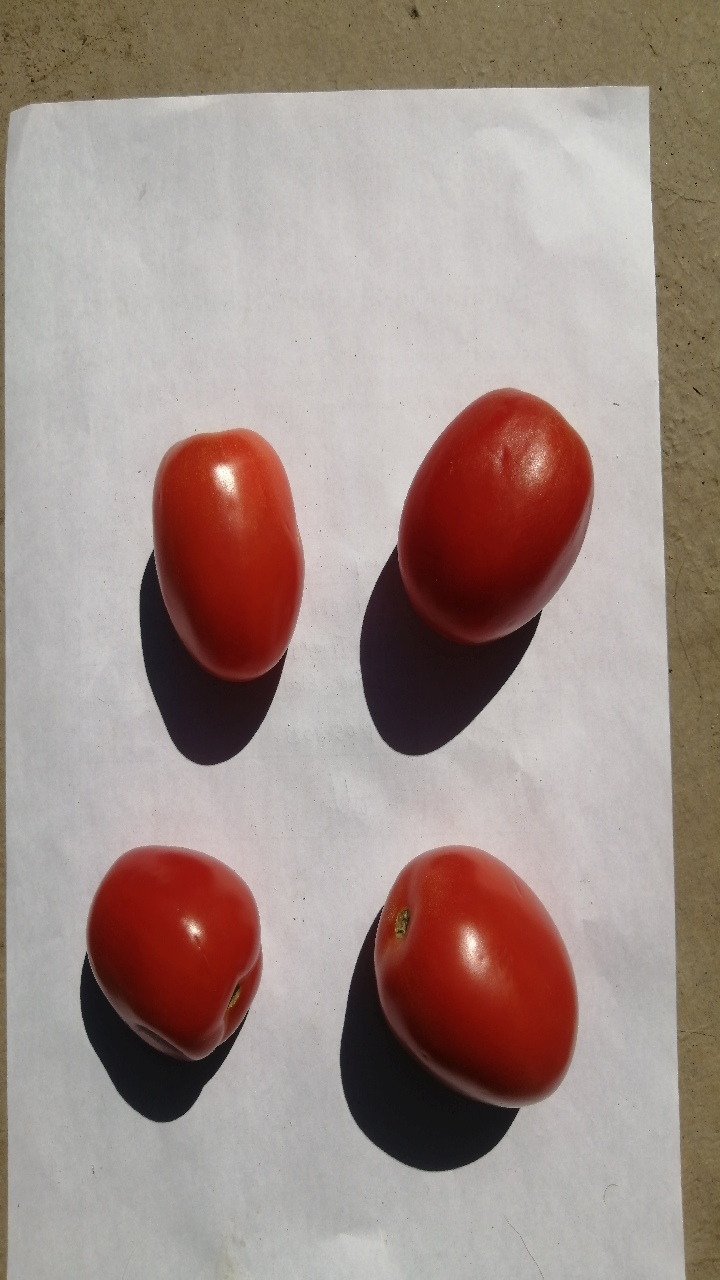tomateRojo: (358, 828, 594, 1125), (377, 377, 606, 665), (68, 825, 274, 1083), (143, 408, 315, 697)
